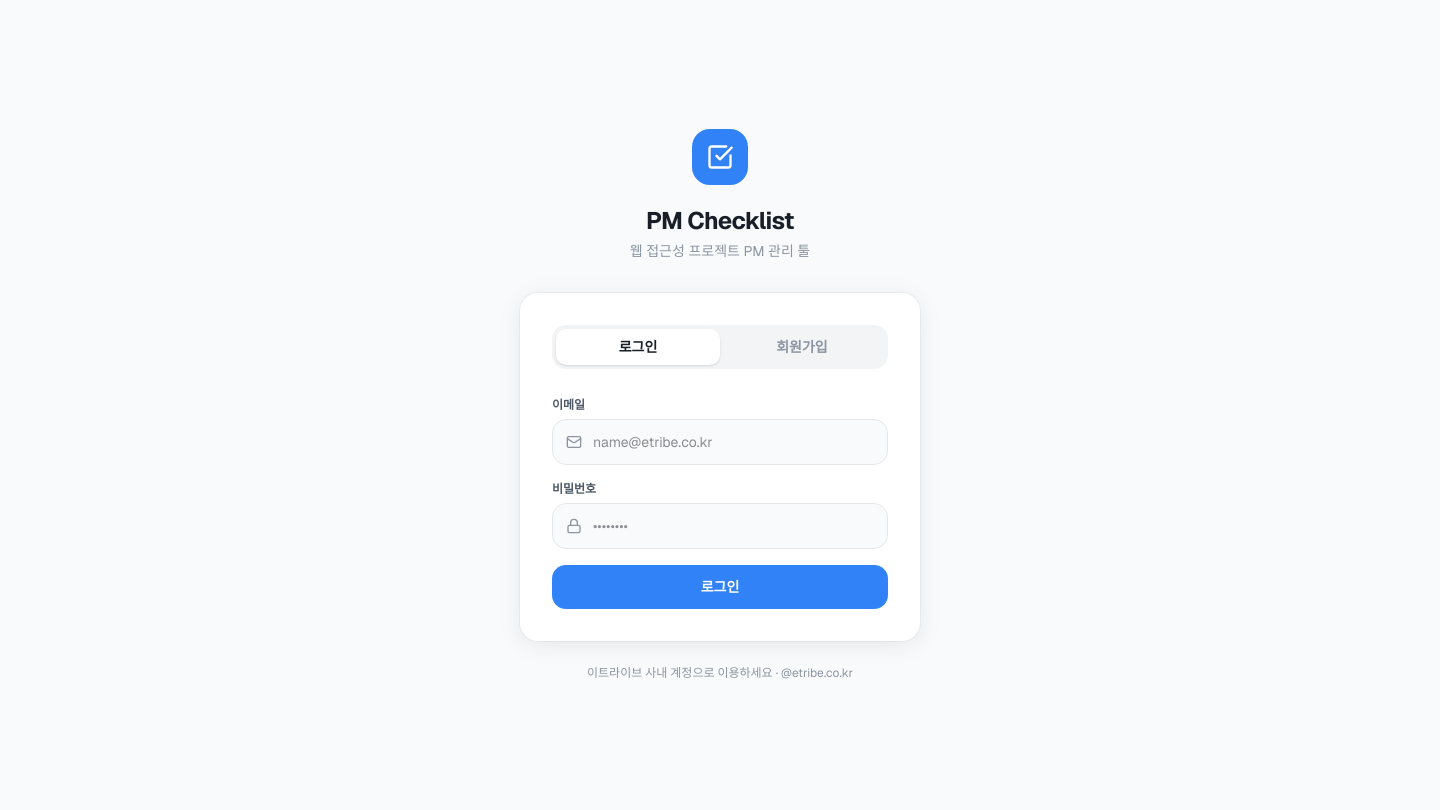
Auth Component › allows switching to signup view and back
# Switch to Sign Up
Step 1. Click the button "회원가입" → (802, 347), box x1=720 y1=329 x2=884 y2=365
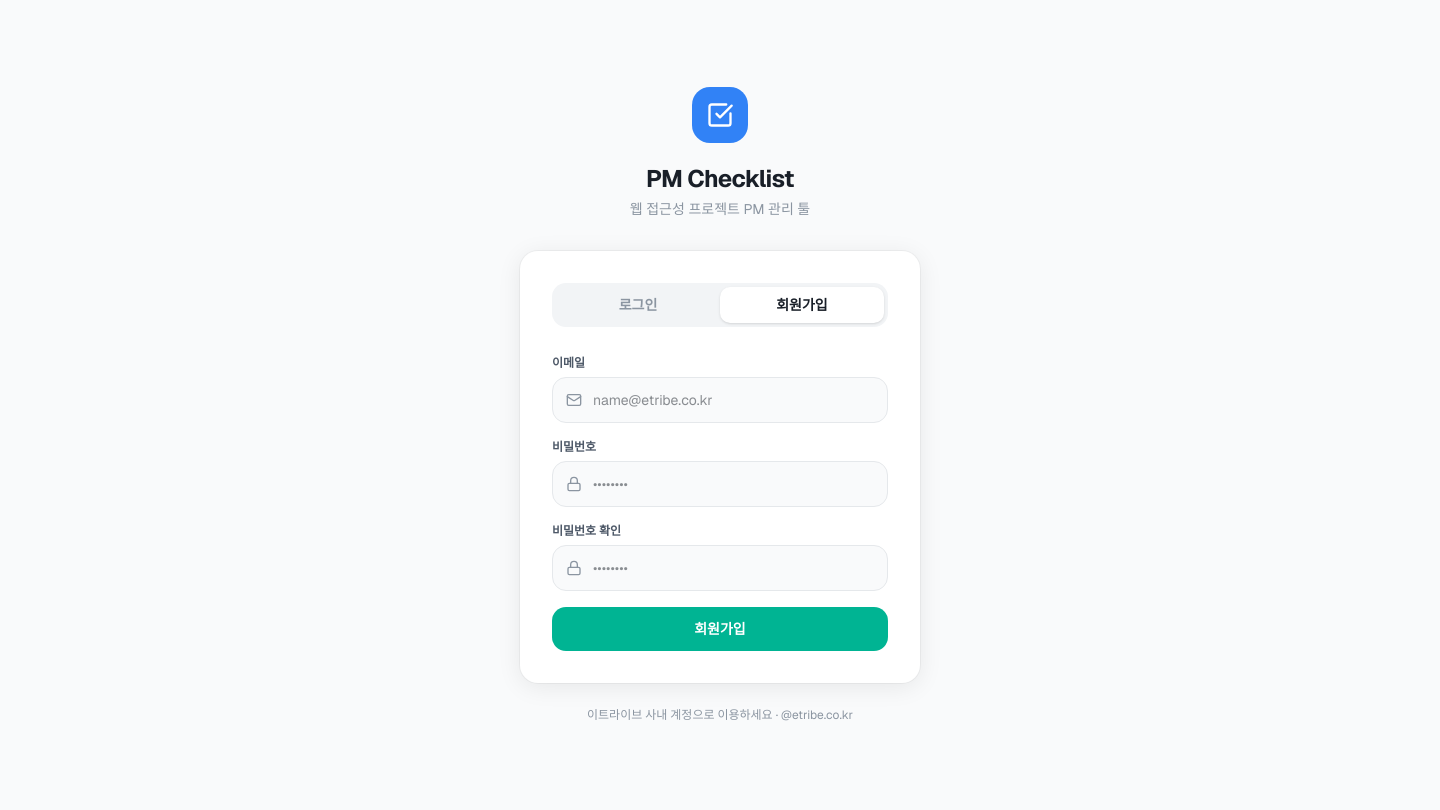
Expected: the button "회원가입" is shown, x1=552 y1=607 x2=888 y2=651
# Switch back to Login
Step 2. Click the button "로그인" → (638, 305), box x1=556 y1=287 x2=720 y2=323
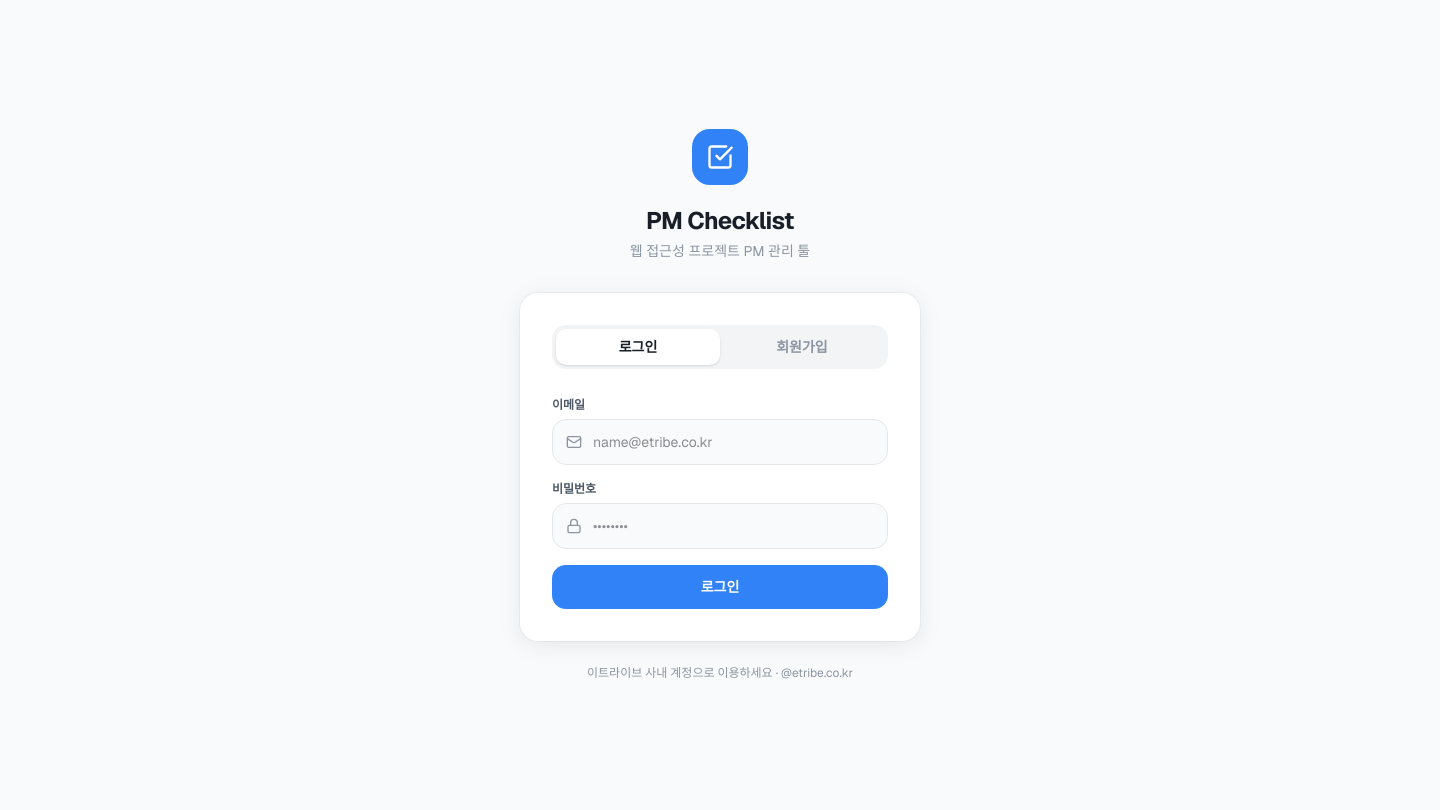
Expected: the button "로그인" is shown, x1=552 y1=565 x2=888 y2=609
